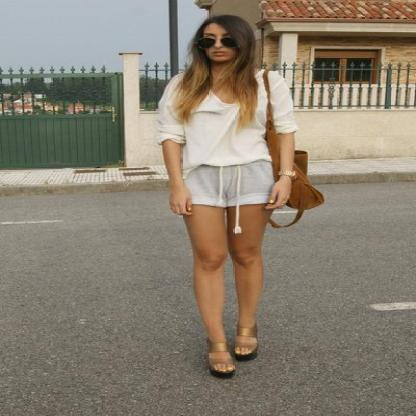bag: (287, 176, 323, 224)
shirt: (140, 62, 300, 168)
shoe: (205, 348, 256, 380)
shorts: (182, 159, 272, 233)
sunglass: (220, 30, 254, 51)
